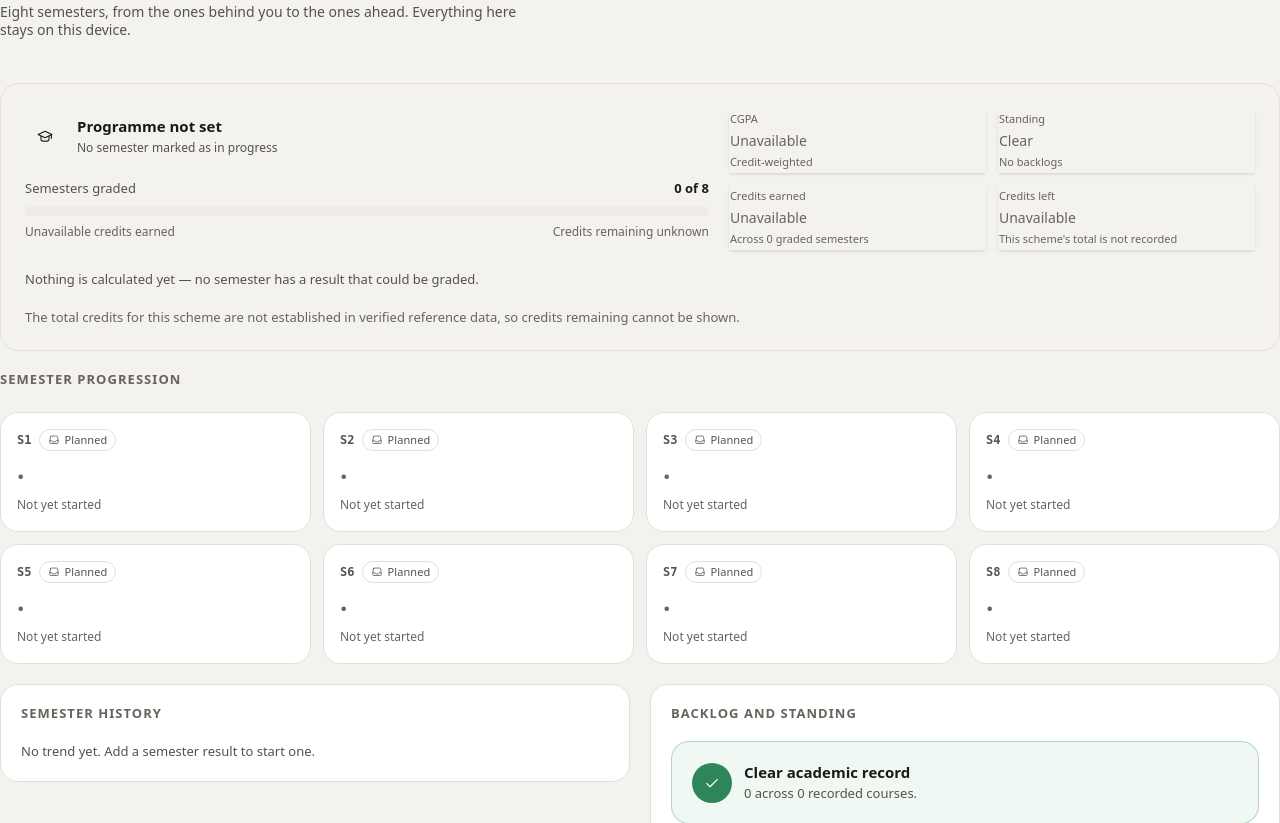
Scenario: semester subjects › renders a hostile subject name as text
The image size is (1280, 823).
Click the button with aria-label "Semester 5,". click: click(78, 572)
box: [0,544,311,664]
(page scrolled)
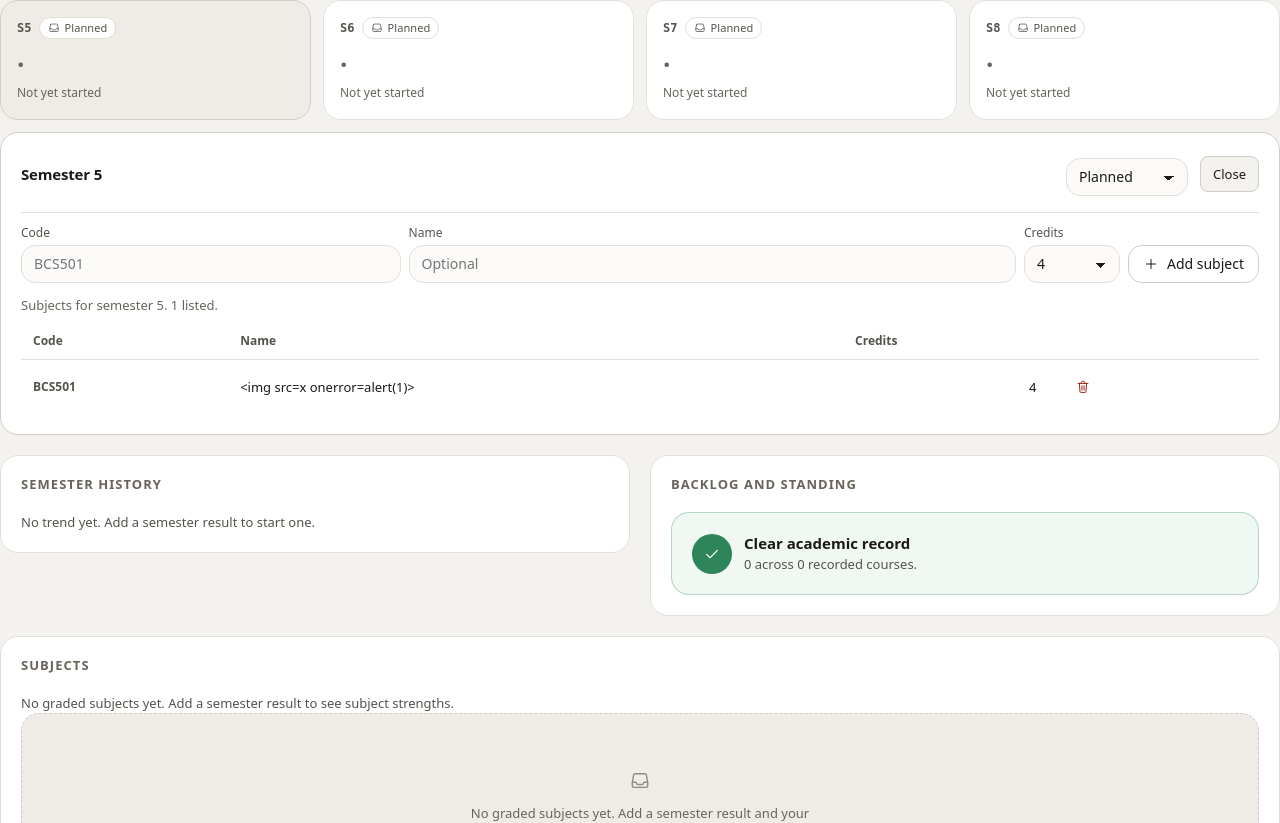
expect the text "<img src=x onerror=alert(1)>" is shown: met, box [228,359,843,414]
